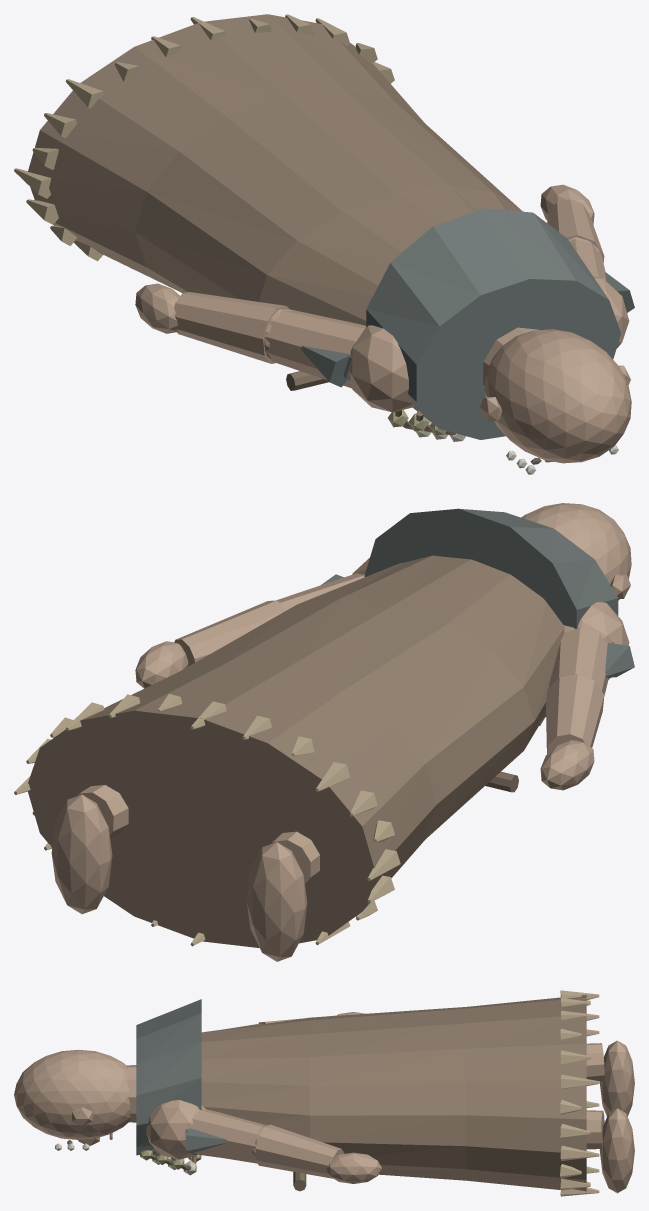
The model's file is woman_slender__shaman.glb.
3 renders of one model, top to bottom at view 1: azimuth 30°, elevation 25°; view 2: azimuth 150°, elevation 25°; view 3: azimuth 270°, elevation 25°, orthographic. The views are drawn at different scales.
Visible parts, largest first — view 1: part_027, part_055, part_010, part_020, part_017, part_018, part_021, part_025, part_061, part_026, part_022, part_023; view 2: part_027, part_055, part_007, part_003, part_010, part_020, part_025, part_018, part_021, part_026, part_017, part_006 (+3 smaller); view 3: part_027, part_010, part_055, part_025, part_023, part_007, part_022, part_003, part_026, part_006, part_002, part_067 (+5 smaller).
Part boxes in pixels (x1=…): part_027: x1=28, y1=14, x2=522, y2=325; part_055: x1=366, y1=208, x2=621, y2=439; part_010: x1=484, y1=329, x2=631, y2=463; part_020: x1=174, y1=292, x2=289, y2=363; part_017: x1=349, y1=325, x2=414, y2=412; part_018: x1=265, y1=309, x2=366, y2=388; part_021: x1=135, y1=283, x2=179, y2=333; part_025: x1=547, y1=199, x2=604, y2=262; part_061: x1=301, y1=346, x2=350, y2=387; part_026: x1=540, y1=184, x2=594, y2=224; part_022: x1=593, y1=276, x2=629, y2=348; part_023: x1=569, y1=238, x2=606, y2=280; part_027: x1=28, y1=555, x2=564, y2=947; part_055: x1=364, y1=508, x2=618, y2=628; part_007: x1=51, y1=794, x2=112, y2=914; part_003: x1=246, y1=842, x2=307, y2=961; part_010: x1=521, y1=503, x2=631, y2=600; part_020: x1=546, y1=674, x2=604, y2=754; part_025: x1=174, y1=600, x2=286, y2=666; part_018: x1=549, y1=627, x2=608, y2=695; part_021: x1=540, y1=740, x2=594, y2=790; part_026: x1=135, y1=641, x2=188, y2=688; part_017: x1=564, y1=602, x2=629, y2=679; part_006: x1=77, y1=785, x2=128, y2=838; part_027: x1=198, y1=995, x2=586, y2=1191; part_010: x1=14, y1=1049, x2=130, y2=1139; part_055: x1=136, y1=999, x2=201, y2=1155; part_025: x1=255, y1=1124, x2=344, y2=1178; part_023: x1=191, y1=1109, x2=266, y2=1163; part_007: x1=599, y1=1108, x2=634, y2=1193; part_022: x1=146, y1=1100, x2=205, y2=1159; part_003: x1=599, y1=1040, x2=634, y2=1116; part_026: x1=326, y1=1152, x2=381, y2=1183; part_006: x1=586, y1=1110, x2=604, y2=1149; part_002: x1=586, y1=1043, x2=604, y2=1081; part_067: x1=185, y1=1128, x2=227, y2=1153.
Size of the model in its own units: 1.5 by 0.7627 by 2.56.
